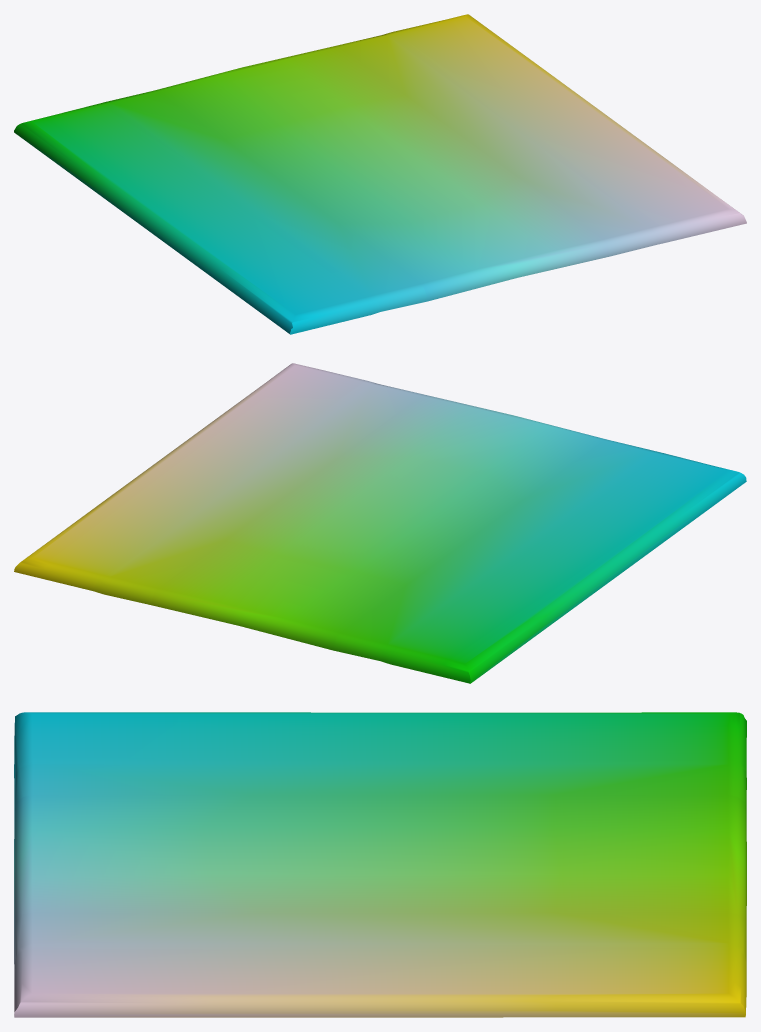
File: SM_ROAD_19_20_0_37_meshed_inter.FBX
3 views of the same model, one above another, from view 1: azimuth 30°, elevation 25°; view 2: azimuth 150°, elevation 25°; view 3: azimuth 270°, elevation 25° (orthographic). The views are drawn at different scales.
Visible parts, largest first — view 1: SM_ROAD_19_20_0_37_meshed_inter; view 2: SM_ROAD_19_20_0_37_meshed_inter; view 3: SM_ROAD_19_20_0_37_meshed_inter.
Part boxes in pixels (x1,y1,x2,y2): SM_ROAD_19_20_0_37_meshed_inter: [14, 14, 746, 334]; SM_ROAD_19_20_0_37_meshed_inter: [14, 363, 746, 683]; SM_ROAD_19_20_0_37_meshed_inter: [14, 712, 746, 1017].
Bounding box in the file's own units: 2005 × 2106 × 57.5.
